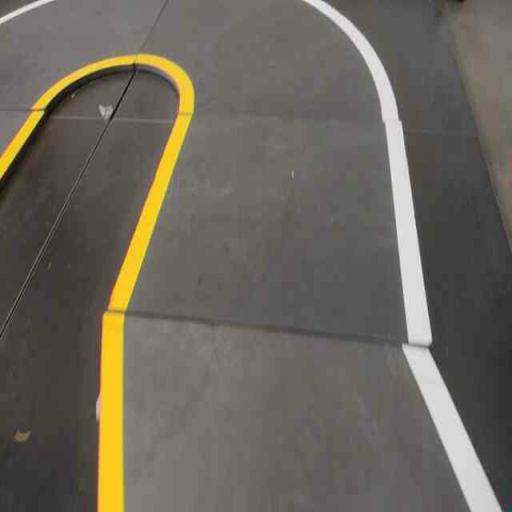crossleft: (87, 309, 504, 511)
